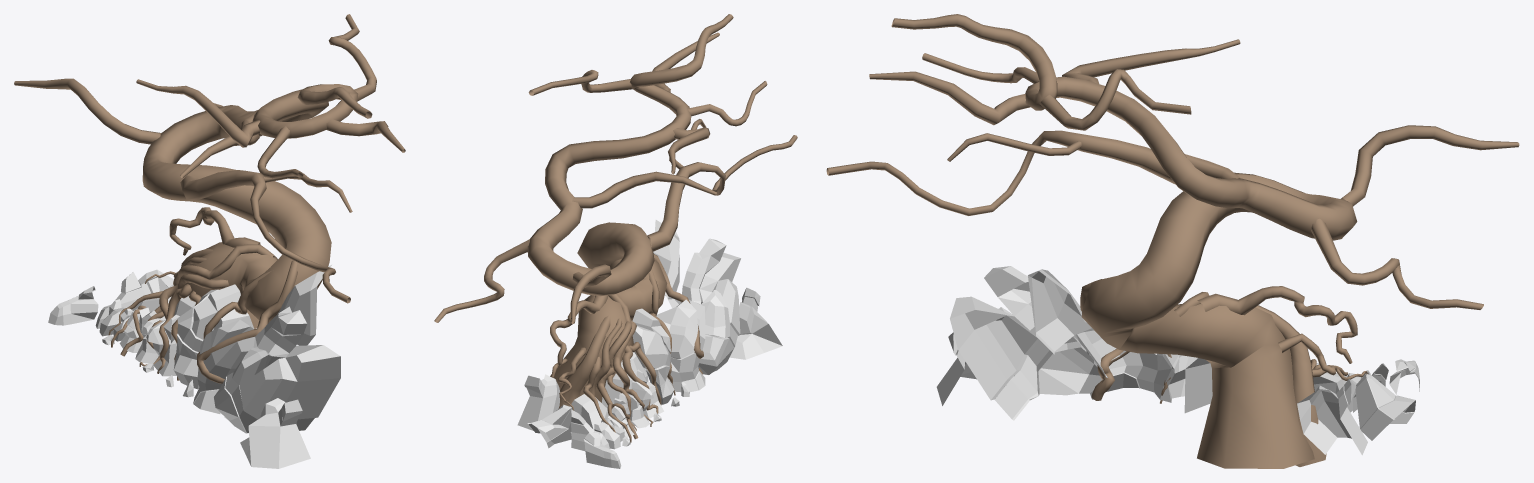
File: background.fbx
The picture shows the model from 3 angles, left to right: view 1: azimuth 30°, elevation 25°; view 2: azimuth 150°, elevation 25°; view 3: azimuth 270°, elevation 25°; orthographic projection. The views are drawn at different scales.
Visible parts, largest first — view 1: tree_thrunk_background, Rocks; view 2: tree_thrunk_background, Rocks; view 3: tree_thrunk_background, Rocks.
Boxes of the visible parts, x1=… form: tree_thrunk_background: x1=14, y1=14, x2=405, y2=383; Rocks: x1=48, y1=265, x2=340, y2=468; tree_thrunk_background: x1=434, y1=14, x2=797, y2=442; Rocks: x1=517, y1=220, x2=782, y2=468; tree_thrunk_background: x1=826, y1=14, x2=1519, y2=468; Rocks: x1=936, y1=266, x2=1419, y2=455.
Size of the model in its own units: 6259 by 10971 by 15790.
